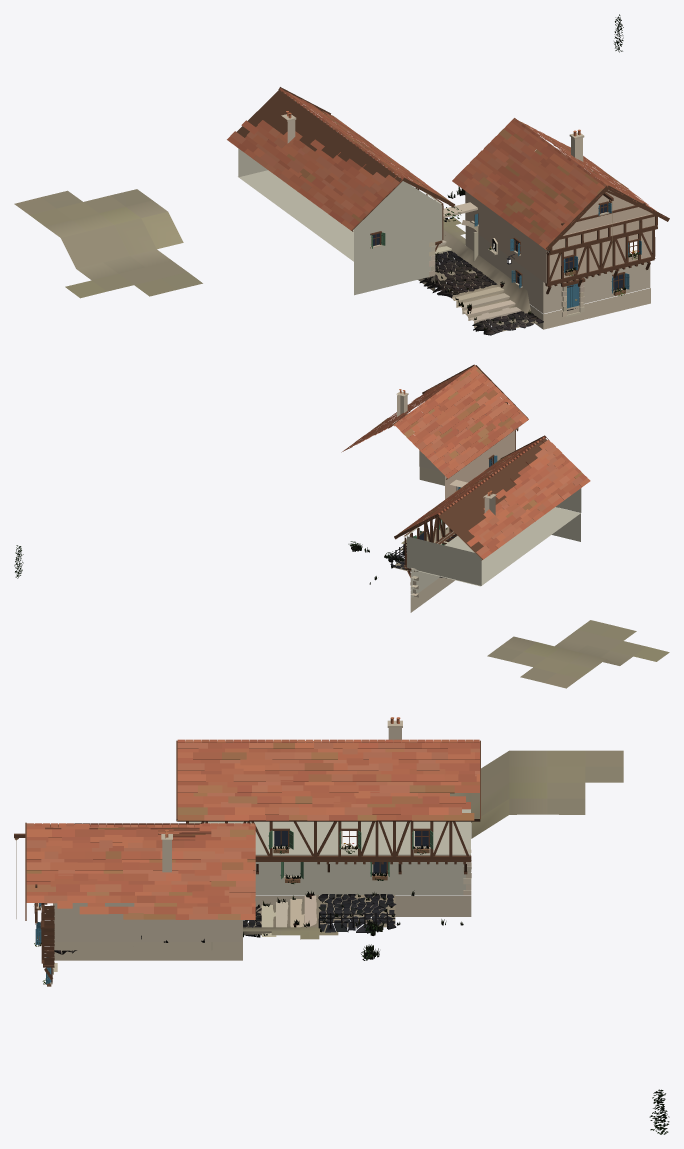
File: barrio_atajo.glb
3 renders of one model, top to bottom at view 1: azimuth 30°, elevation 25°; view 2: azimuth 150°, elevation 25°; view 3: azimuth 270°, elevation 25°, orthographic. The views are drawn at different scales.
Visible parts, largest first — view 1: fijo_atajo, piezas_atajo, vegetacion_atajo; view 2: fijo_atajo; view 3: fijo_atajo, piezas_atajo, vegetacion_atajo.
Part boxes in pixels (<box>): fijo_atajo: <box>14,87,669,331</box>; piezas_atajo: <box>419,251,543,335</box>; vegetacion_atajo: <box>428,14,639,330</box>; fijo_atajo: <box>341,364,669,688</box>; fijo_atajo: <box>14,717,623,986</box>; piezas_atajo: <box>52,893,396,954</box>; vegetacion_atajo: <box>34,843,669,1134</box>.
Size of the model in its own units: 48.28 by 10.28 by 34.49.
